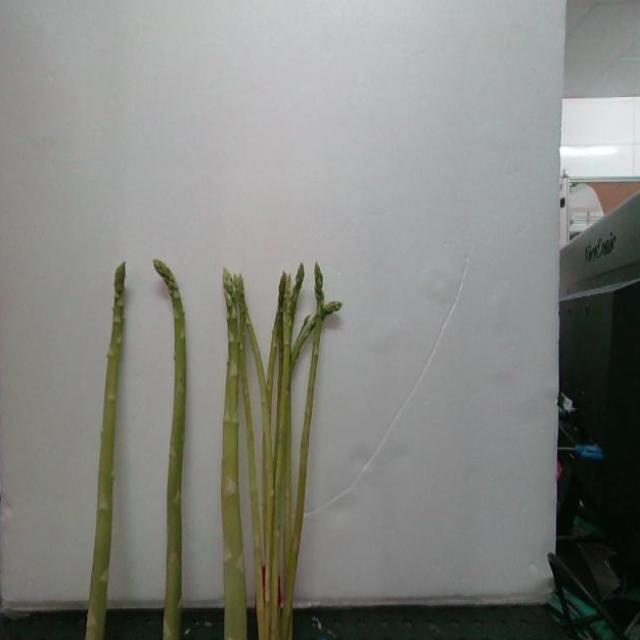aspargus: (86, 263, 126, 640), (154, 262, 190, 640)
